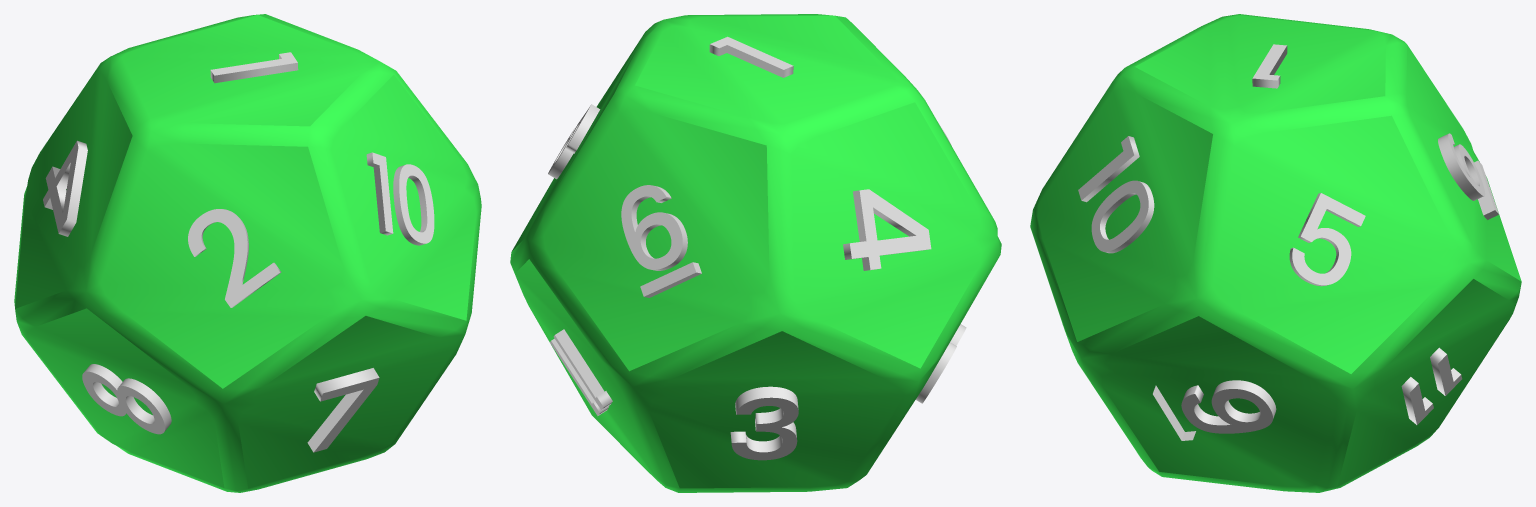
3 views of the same model, side by side, from view 1: azimuth 30°, elevation 25°; view 2: azimuth 150°, elevation 25°; view 3: azimuth 270°, elevation 25° (orthographic). The views are drawn at different scales.
Parts seen in each view (by area): view 1: d12, d12_numbers; view 2: d12, d12_numbers; view 3: d12, d12_numbers.
Part boxes in pixels (bbox=[...]): d12: bbox=[14, 14, 481, 492]; d12_numbers: bbox=[43, 52, 434, 452]; d12: bbox=[510, 14, 1001, 492]; d12_numbers: bbox=[548, 36, 966, 460]; d12: bbox=[1030, 14, 1521, 492]; d12_numbers: bbox=[1062, 44, 1498, 440].
Size of the model in its own units: 0.6387 by 0.5807 by 0.66.
